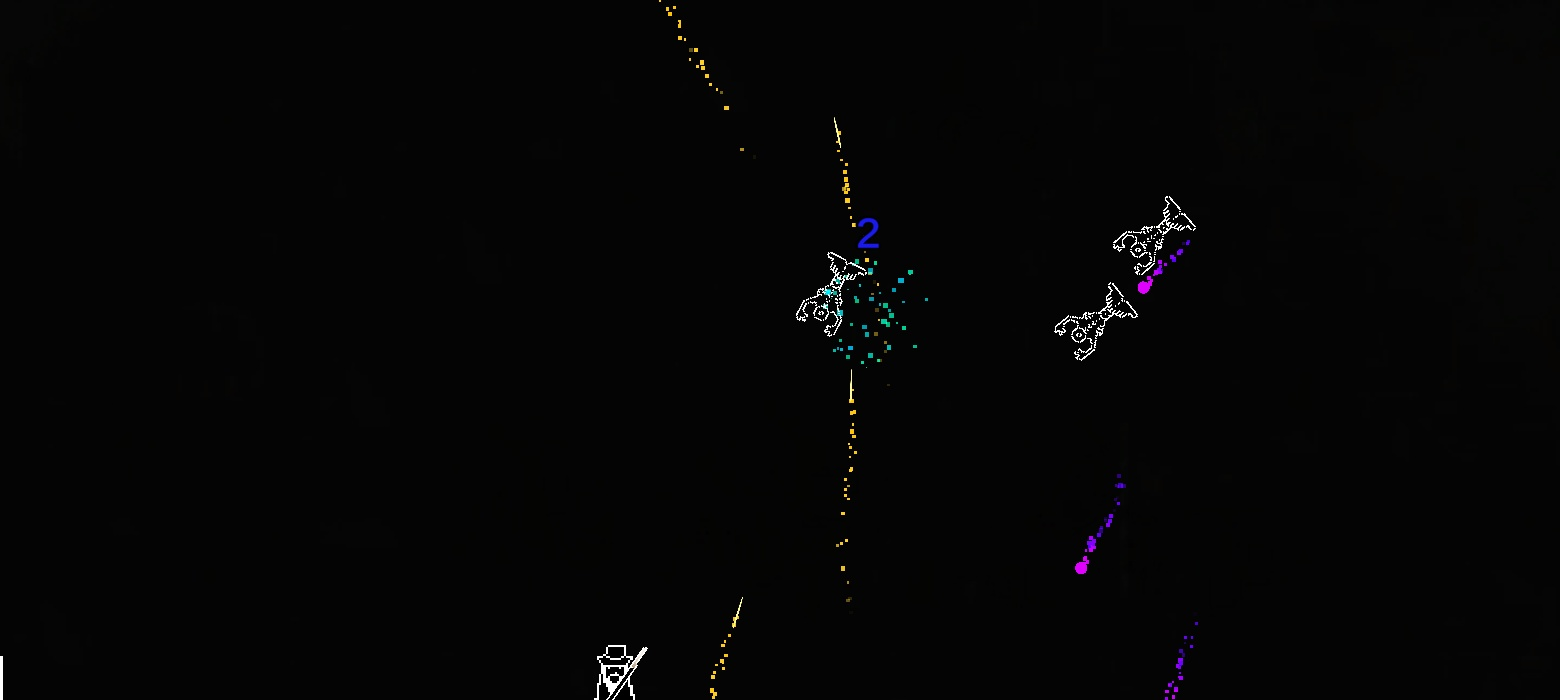enemy: (1113, 195, 1197, 276), (1053, 282, 1139, 361), (795, 252, 867, 337)
